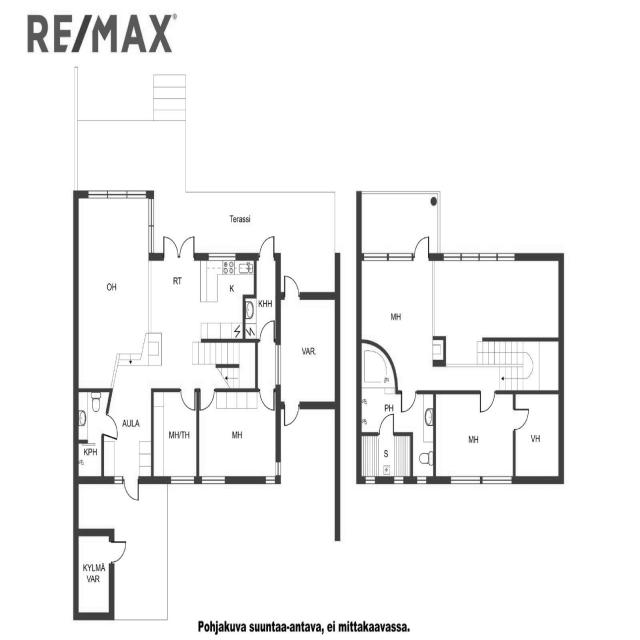door: (250, 272, 278, 343), (161, 234, 198, 261), (106, 535, 130, 567), (411, 232, 433, 263), (509, 405, 532, 433), (120, 474, 142, 503), (256, 233, 278, 261), (477, 387, 498, 416), (178, 383, 198, 412), (398, 387, 418, 416), (258, 316, 278, 344), (197, 385, 216, 413), (376, 413, 397, 438), (258, 386, 277, 413), (102, 411, 120, 439), (282, 400, 300, 428), (282, 272, 301, 298)
window: (446, 247, 518, 266), (84, 185, 148, 205), (450, 472, 514, 488), (364, 248, 415, 263), (144, 194, 160, 236), (273, 340, 283, 390), (166, 473, 198, 488), (199, 473, 229, 488), (206, 250, 240, 263), (263, 467, 280, 487), (273, 458, 284, 482), (414, 474, 430, 490), (363, 473, 380, 488), (390, 475, 407, 487)
zone: (75, 190, 152, 386), (434, 258, 563, 342), (358, 257, 438, 368), (198, 389, 278, 483), (434, 393, 516, 480), (278, 295, 337, 407), (150, 254, 202, 344), (200, 254, 253, 339), (152, 389, 198, 480), (515, 392, 562, 478), (358, 342, 396, 434), (76, 530, 111, 618), (245, 256, 278, 342), (358, 434, 413, 482), (75, 388, 107, 443), (77, 443, 102, 480)
